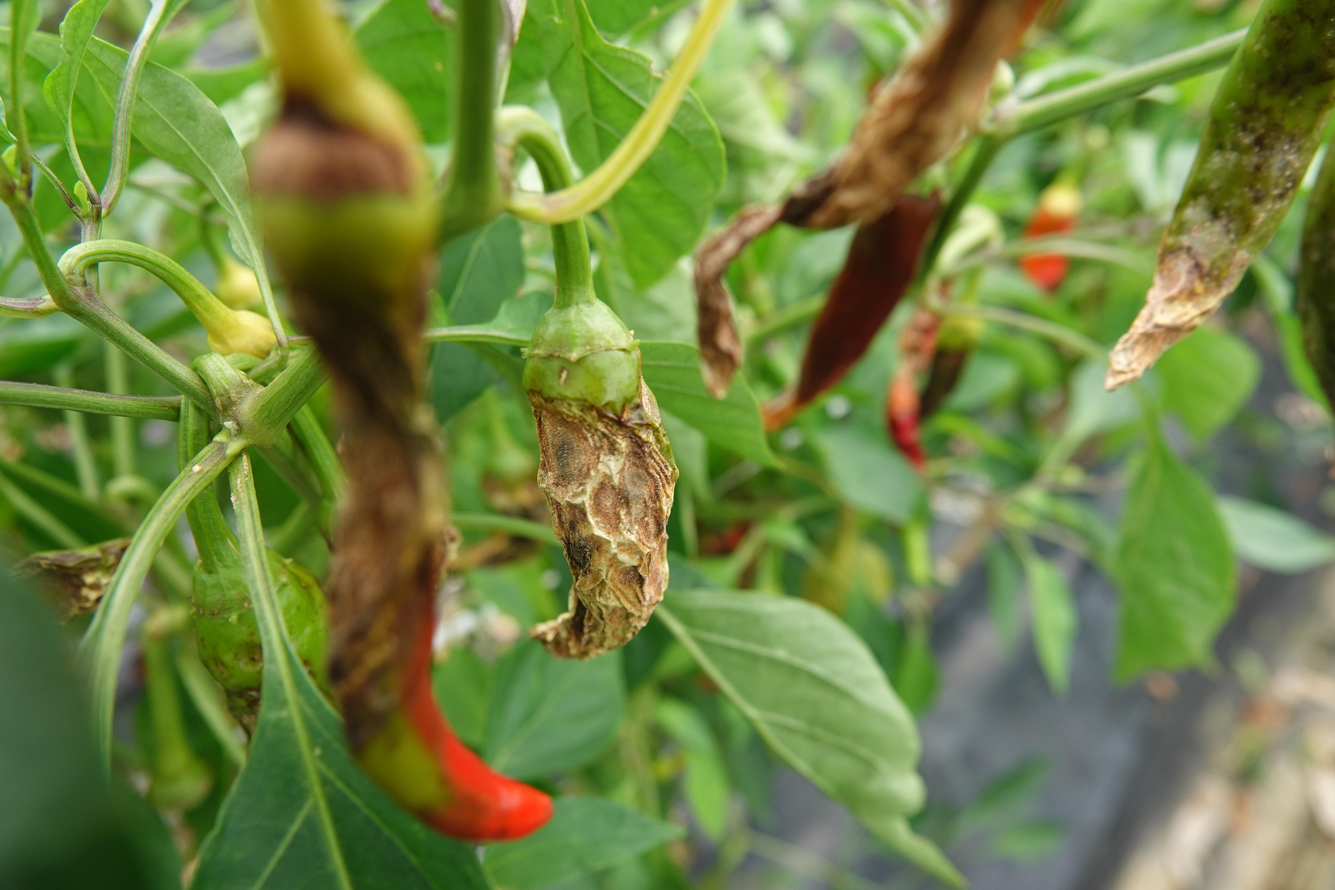Busuk Buah Antraknosa: (235, 2, 556, 844), (1098, 1, 1335, 392), (517, 295, 681, 662)
